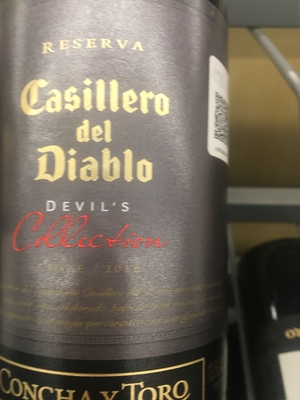casillero del diablo devils collection rojo: (2, 1, 230, 400)
